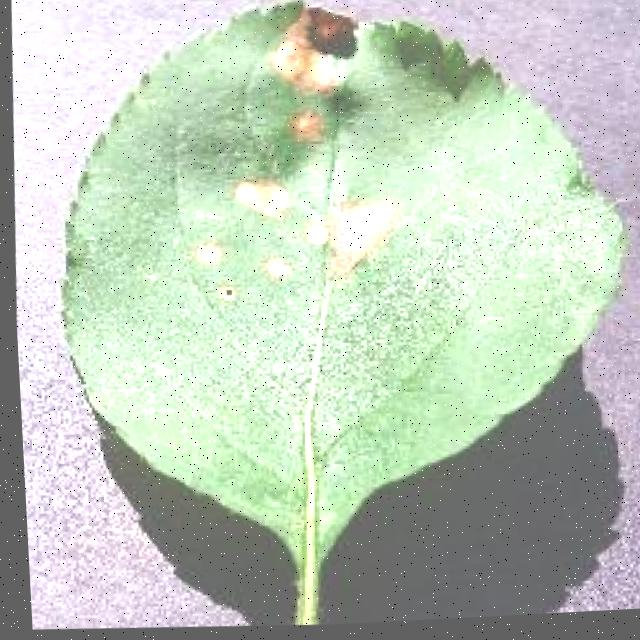black_rot: (293, 180, 415, 306), (260, 0, 366, 101), (212, 164, 302, 231), (194, 275, 251, 322), (282, 104, 334, 146), (252, 251, 296, 297), (181, 239, 235, 273)
